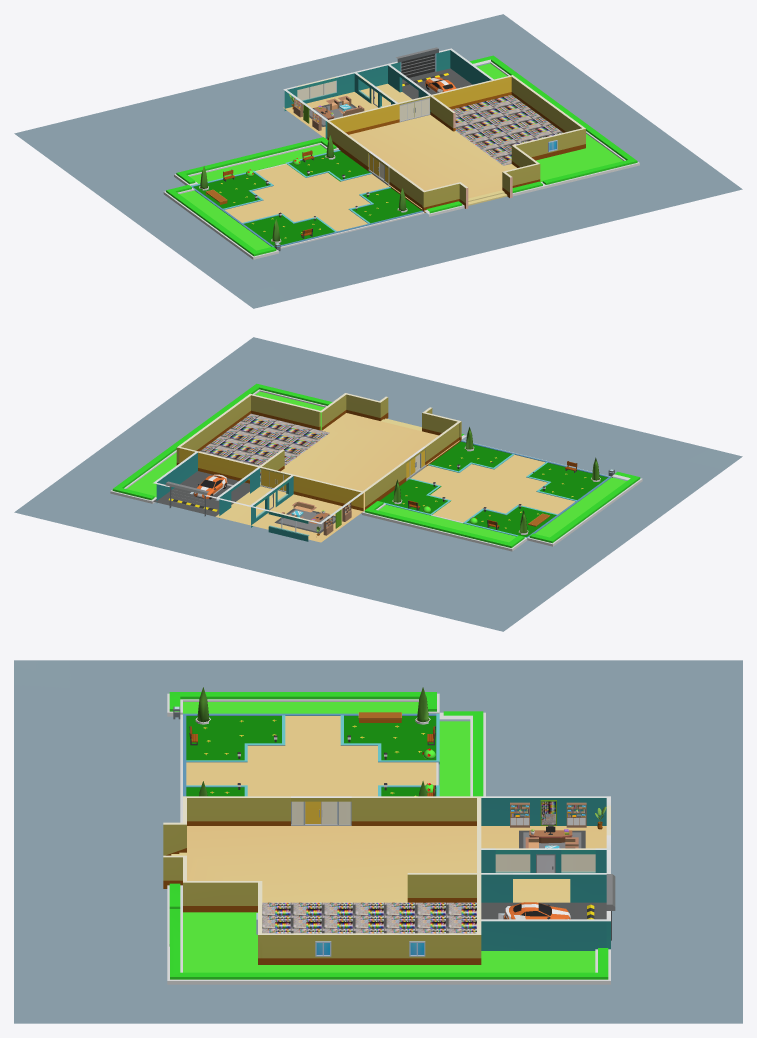
File: Map.gltf
3 renders of one model, top to bottom at view 1: azimuth 30°, elevation 25°; view 2: azimuth 150°, elevation 25°; view 3: azimuth 270°, elevation 25°, orthographic. The views are drawn at different scales.
Visible parts, largest first — view 1: Map; view 2: Map; view 3: Map.
Boxes of the visible parts, x1=… form: Map: x1=14, y1=14, x2=742, y2=308; Map: x1=14, y1=337, x2=742, y2=631; Map: x1=14, y1=660, x2=742, y2=1023.
Bounding box in the file's own units: 239 × 14.36 × 203.
Materials: 1 (1 with a texture image).
